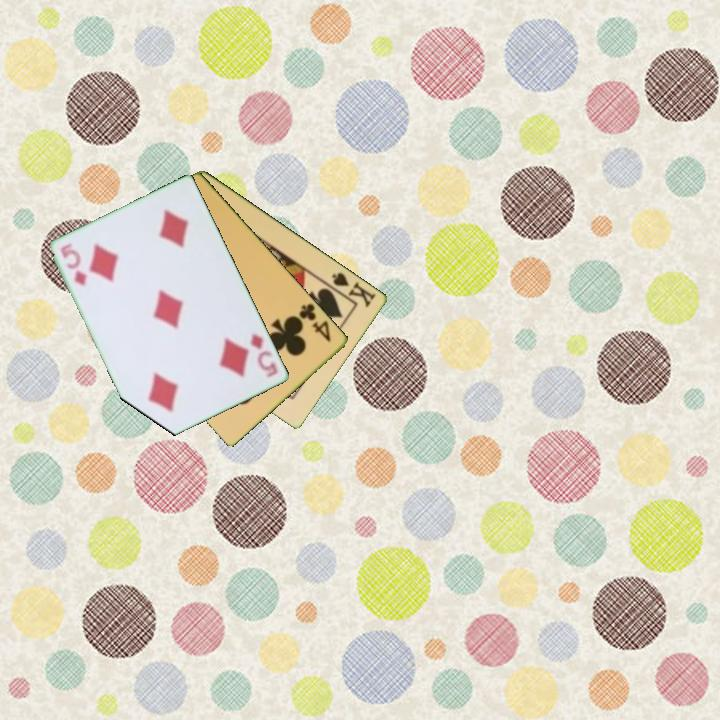4c: (294, 300, 334, 345)
5d: (247, 330, 281, 381), (57, 240, 90, 290)
Ks: (324, 268, 379, 311)
